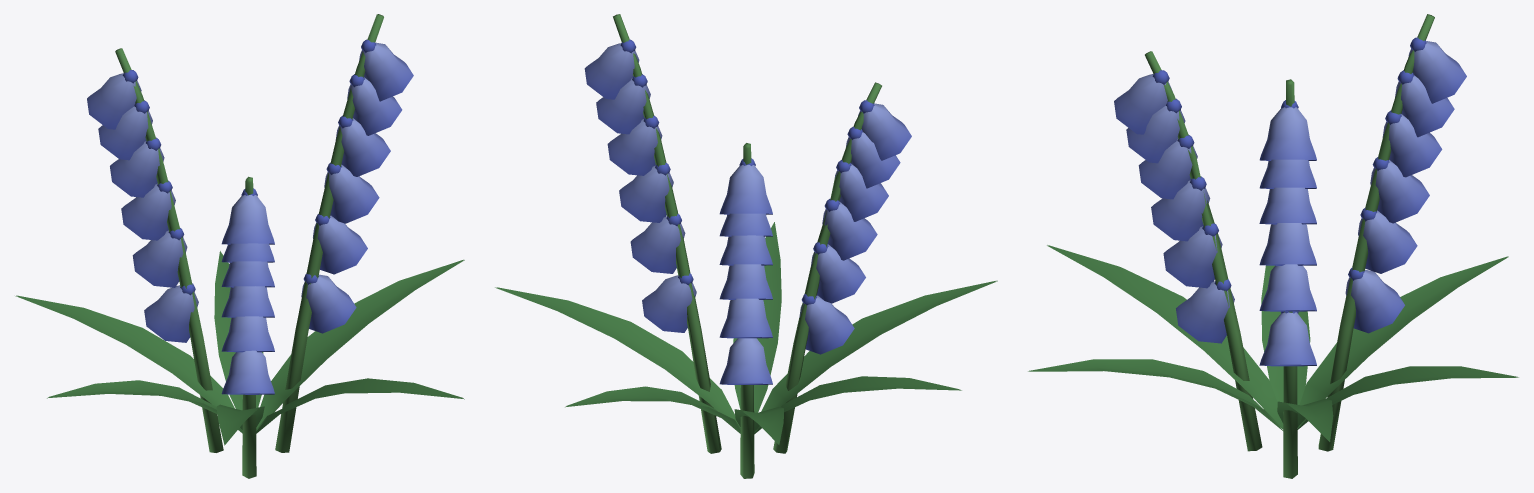
Rendered from ing_wild_hyacinth.glb.
3 renders of one model, left to right at view 1: azimuth 30°, elevation 25°; view 2: azimuth 150°, elevation 25°; view 3: azimuth 270°, elevation 25°, orthographic. The views are drawn at different scales.
Visible parts, largest first — view 1: ing_wild_hyacinth; view 2: ing_wild_hyacinth; view 3: ing_wild_hyacinth.
Part boxes in pixels (left/top/right/bottom): ing_wild_hyacinth: left=15, top=14, right=464, bottom=478; ing_wild_hyacinth: left=495, top=14, right=997, bottom=478; ing_wild_hyacinth: left=1028, top=14, right=1518, bottom=478.
Size of what is drawn, in the model's own units: 0.4338 by 0.3866 by 0.386.
